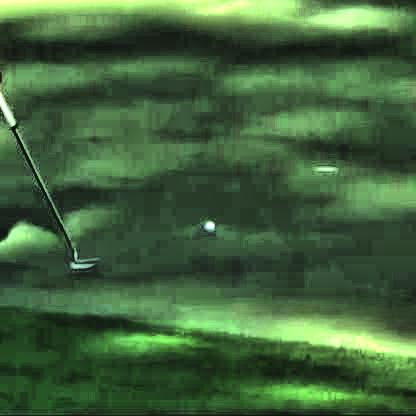golfball: (201, 217, 212, 228)
